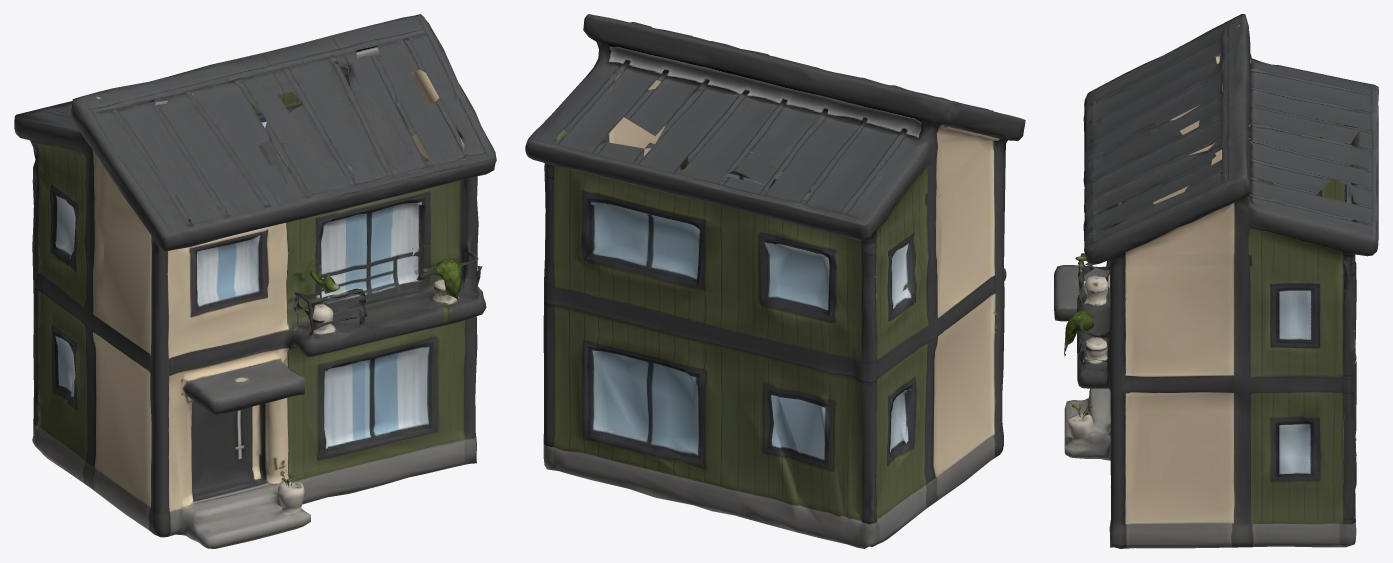
3 views of the same model, side by side, from view 1: azimuth 30°, elevation 25°; view 2: azimuth 150°, elevation 25°; view 3: azimuth 270°, elevation 25° (orthographic). The views are drawn at different scales.
Visible parts, largest first — view 1: house-steel; view 2: house-steel; view 3: house-steel.
Part boxes in pixels (x1,y1,x2,y2): house-steel: (14,14,496,548); house-steel: (525,14,1025,548); house-steel: (1054,14,1378,548).
Size of the model in its own units: 7.47 by 8 by 6.2.
1 material, 1 textured.
